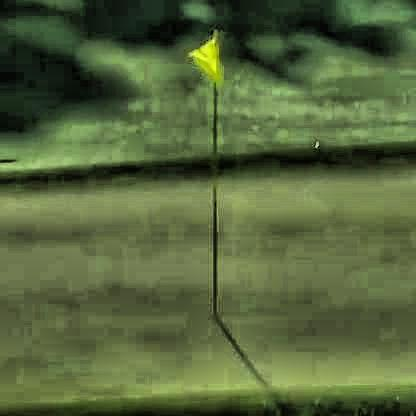golfball: (311, 135, 316, 145)
